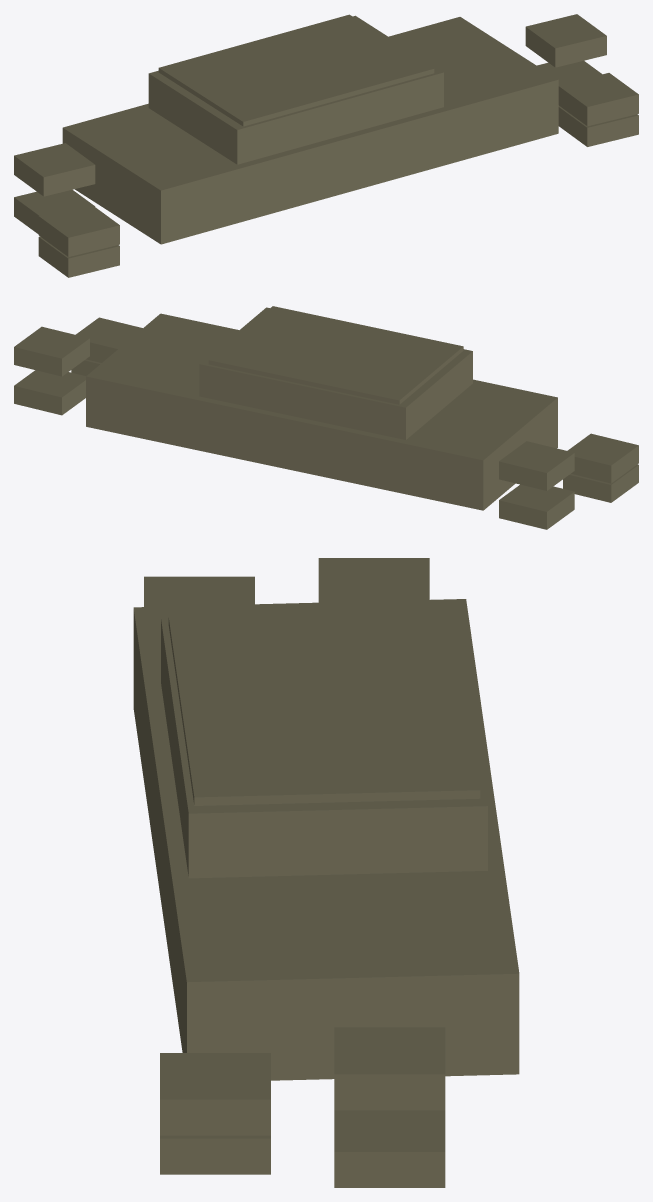
File: SM_BarricadaCivil_v3_Furgoneta_e0_Sano_LOD1.fbx
3 views of the same model, one above another, from view 1: azimuth 30°, elevation 25°; view 2: azimuth 150°, elevation 25°; view 3: azimuth 270°, elevation 25° (orthographic). The views are drawn at different scales.
Visible parts, largest first — view 1: SM_barricada_civil_v12_LOD1; view 2: SM_barricada_civil_v12_LOD1; view 3: SM_barricada_civil_v12_LOD1.
Part boxes in pixels (x1,y1,x2,y2): SM_barricada_civil_v12_LOD1: (14, 14, 638, 277); SM_barricada_civil_v12_LOD1: (14, 306, 638, 529); SM_barricada_civil_v12_LOD1: (133, 558, 519, 1187).
Bounding box in the file's own units: 8 × 1.38 × 2.43.
